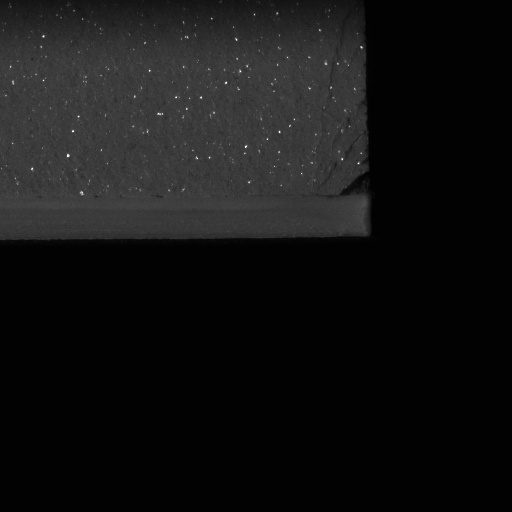bengque: (333, 170, 373, 199)
